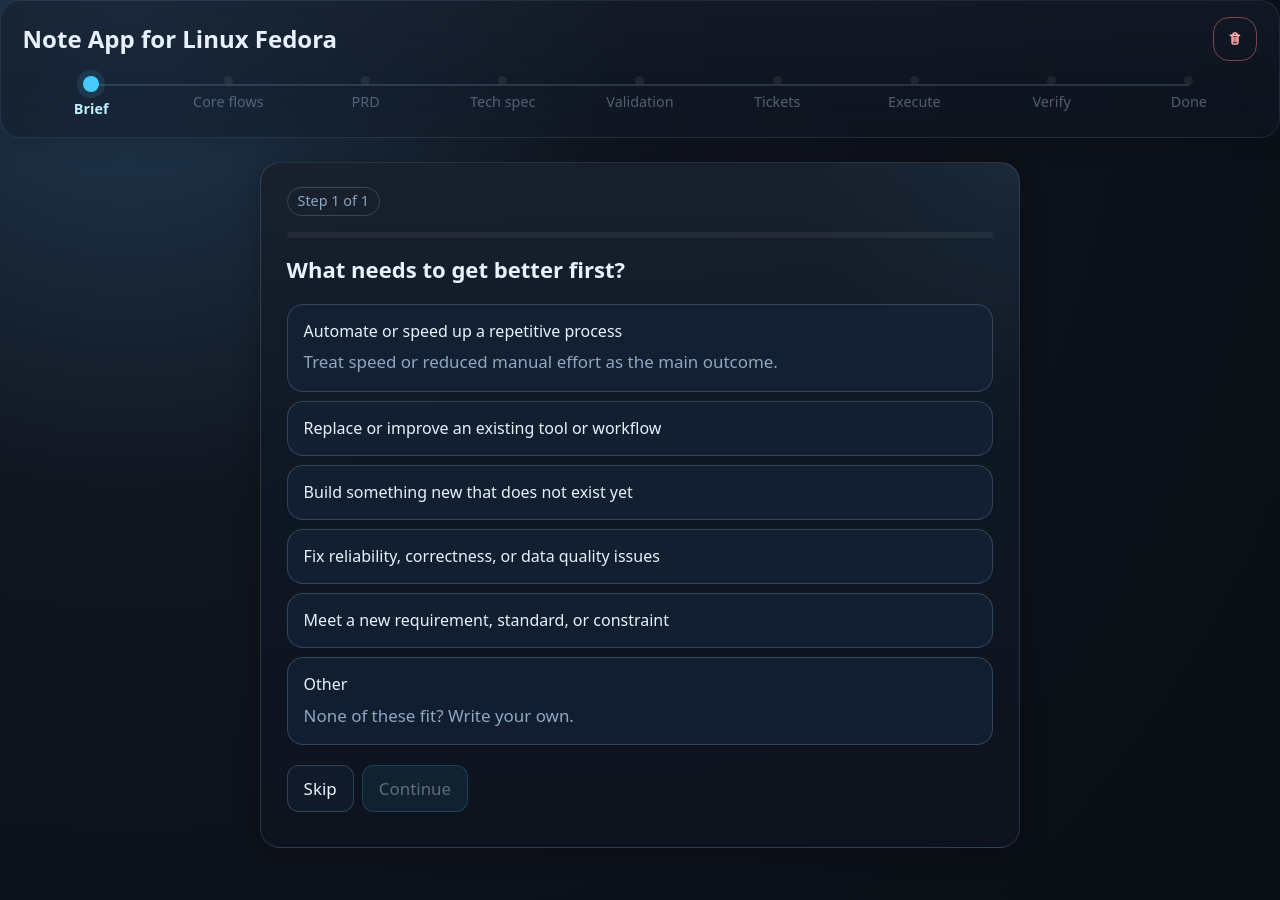
InitiativeView › shows an active loading panel while drafting the brief after the final intake answer
The image size is (1280, 900).
What coordinates should you click on to do the following:
click the button "Automate or speed up a repetitive process"
I would click on:
 (640, 348)
Its box is [287,304,993,392].
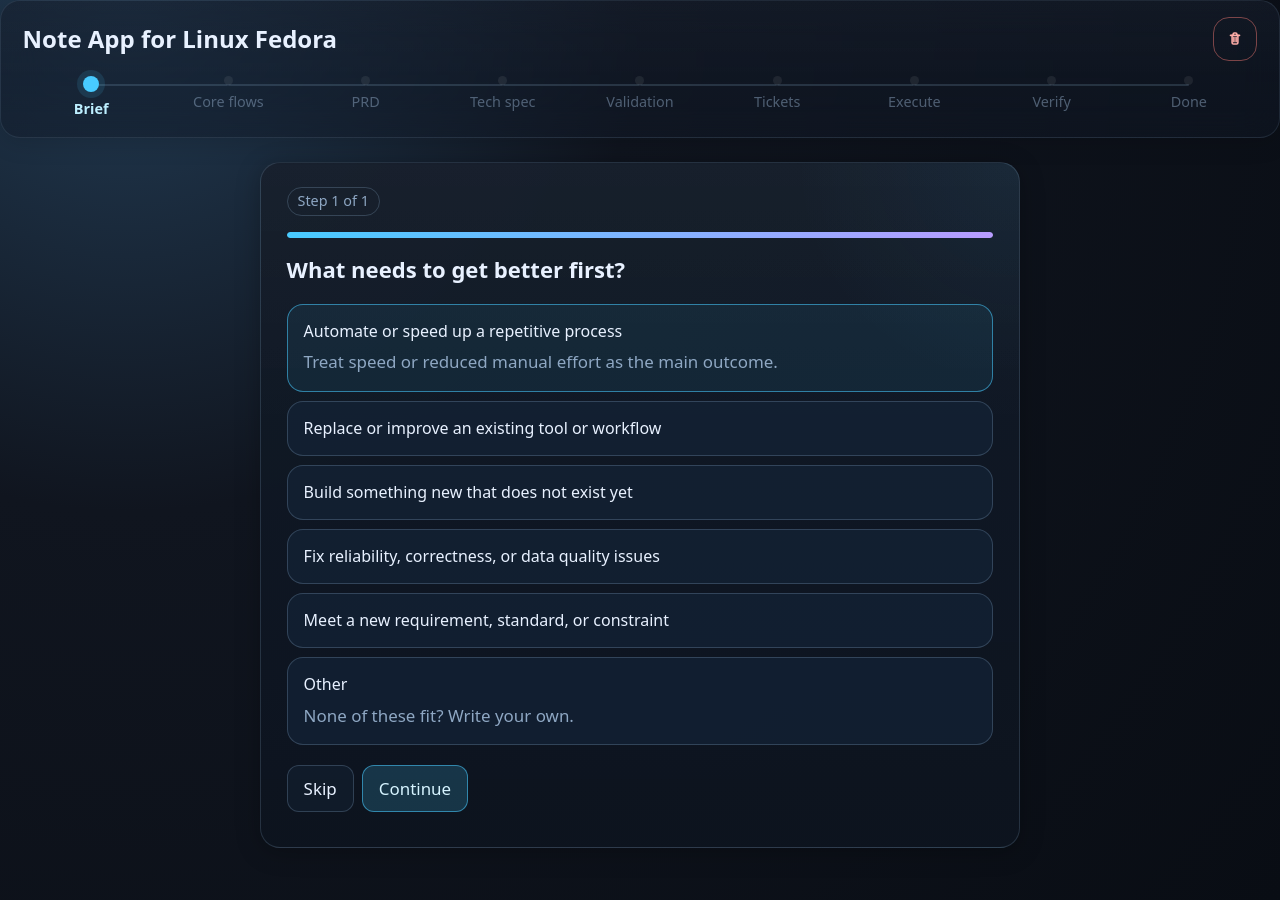
What coordinates should you click on to do the following:
click the button "Continue"
I would click on:
 (415, 789)
Its box is [362,765,468,812].
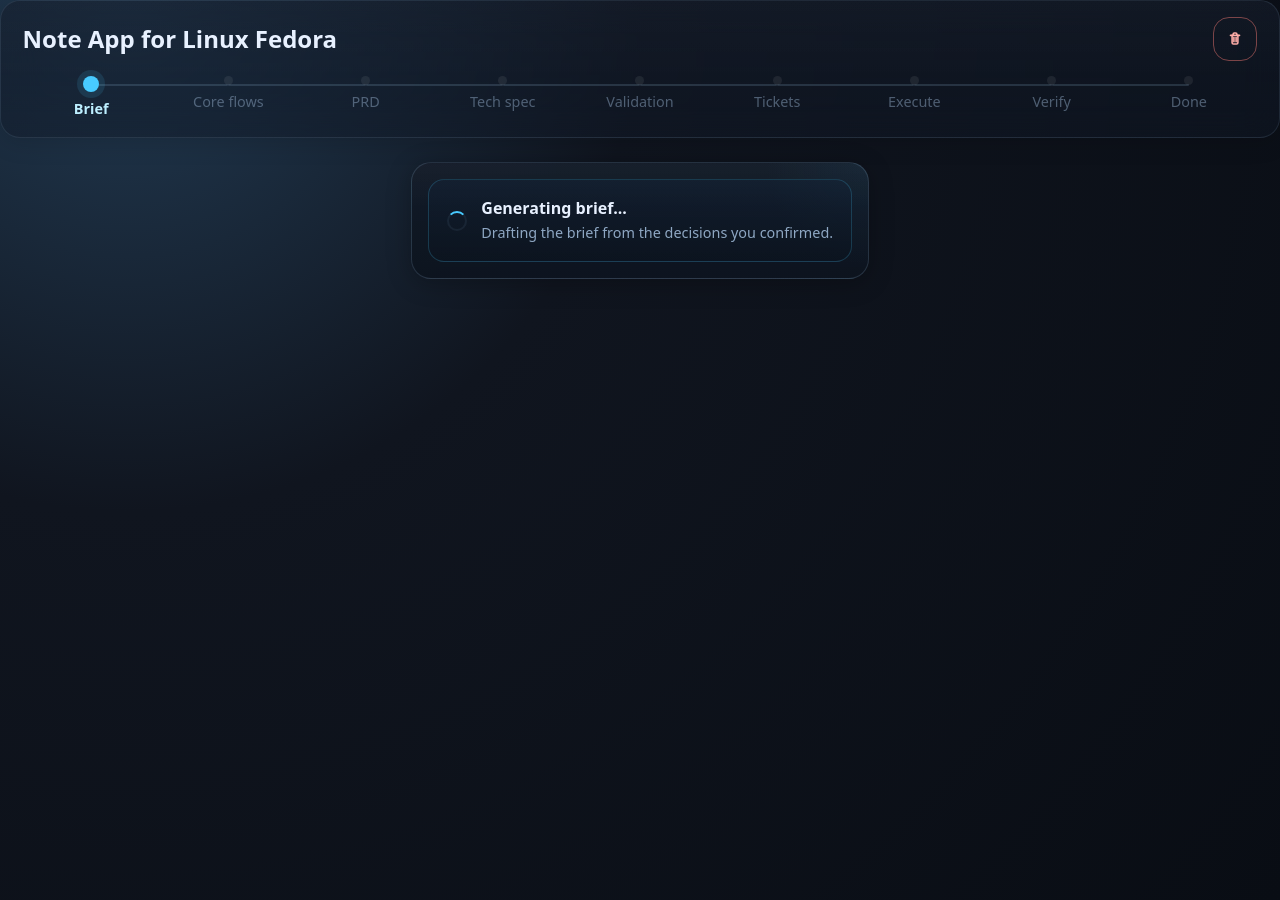
Result: the text "Generating brief..." is shown at [481,196,627,218]
